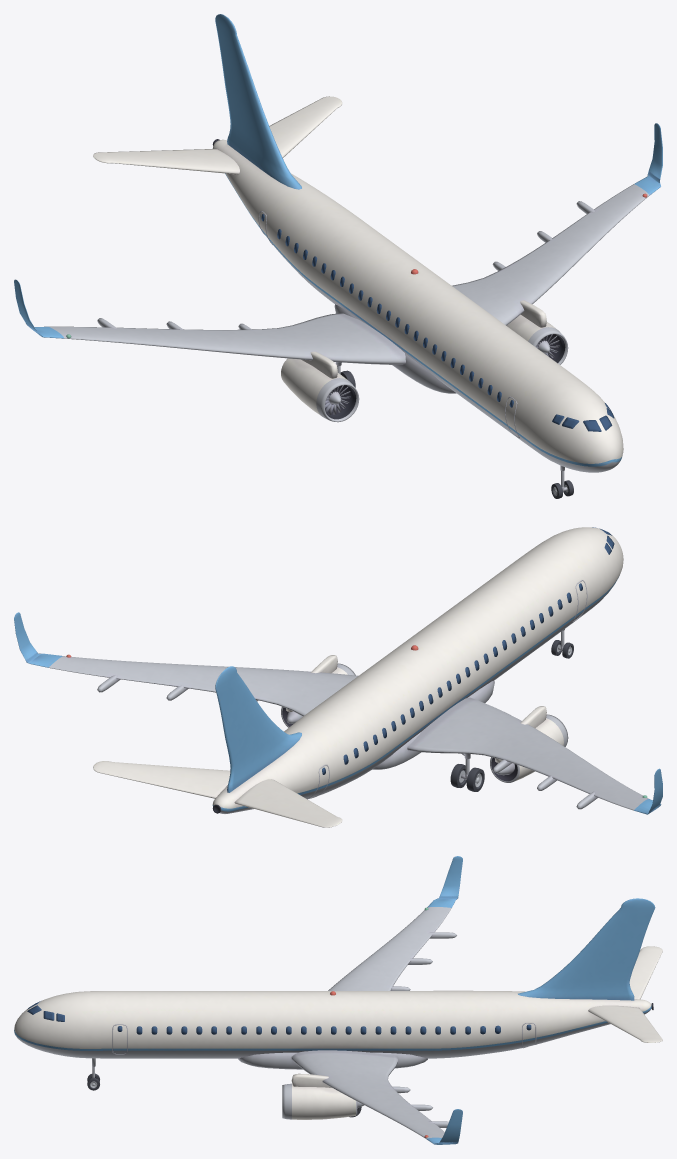
The model's file is passenger-airplane.glb.
The picture shows the model from 3 angles, top to bottom: view 1: azimuth 30°, elevation 25°; view 2: azimuth 150°, elevation 25°; view 3: azimuth 270°, elevation 25°; orthographic projection. The views are drawn at different scales.
Visible parts, largest first — view 1: passenger-airplane_body, passenger-airplane_windows; view 2: passenger-airplane_body, passenger-airplane_windows; view 3: passenger-airplane_body, passenger-airplane_windows.
Boxes of the visible parts, box(x1,y1,x2,y2) form: passenger-airplane_body: box(14, 14, 662, 491); passenger-airplane_windows: box(277, 229, 614, 431); passenger-airplane_body: box(14, 527, 662, 827); passenger-airplane_windows: box(343, 527, 614, 764); passenger-airplane_body: box(14, 856, 662, 1144); passenger-airplane_windows: box(27, 1001, 500, 1034).
Size of the model in its own units: 35.29 by 12.31 by 38.24.
21 materials, 1 textured.
